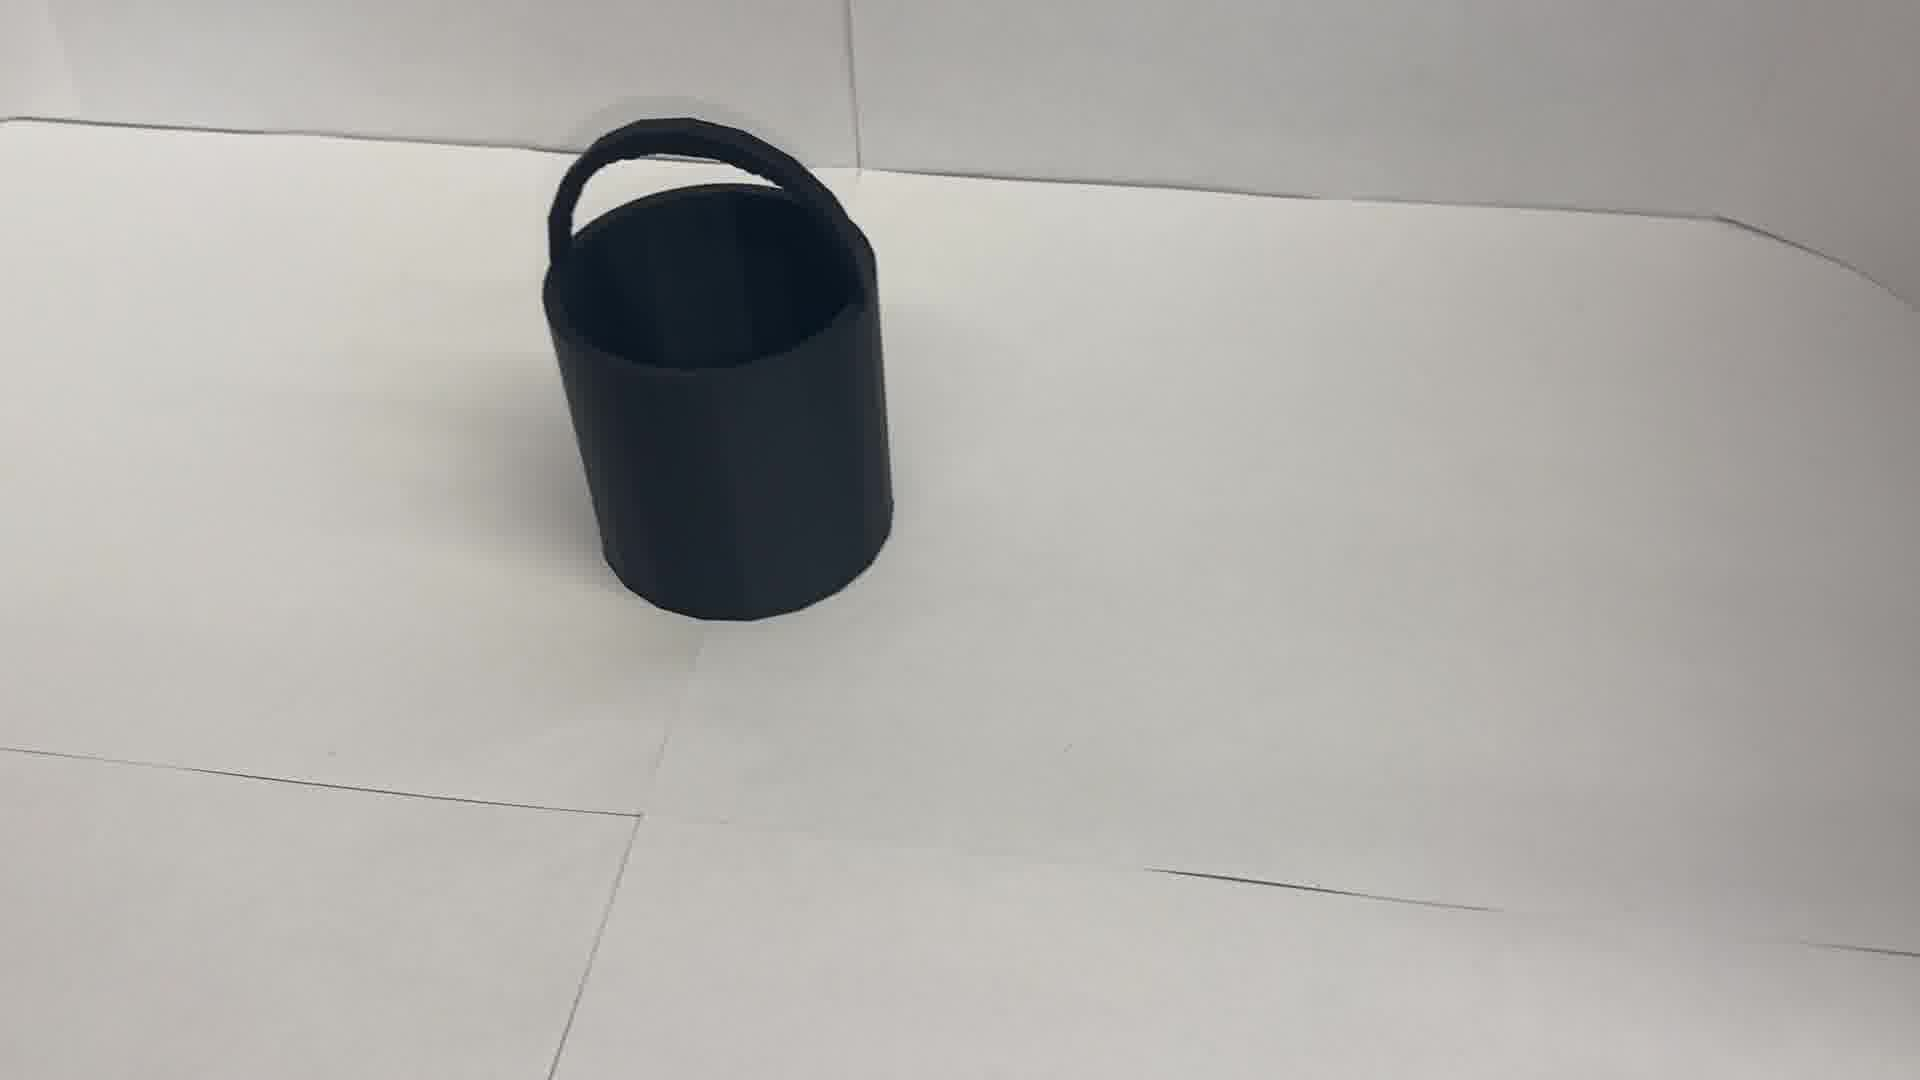bag: (521, 100, 901, 636)
